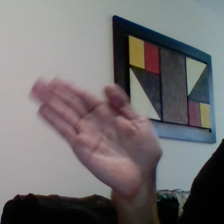left: (26, 69, 168, 196)
